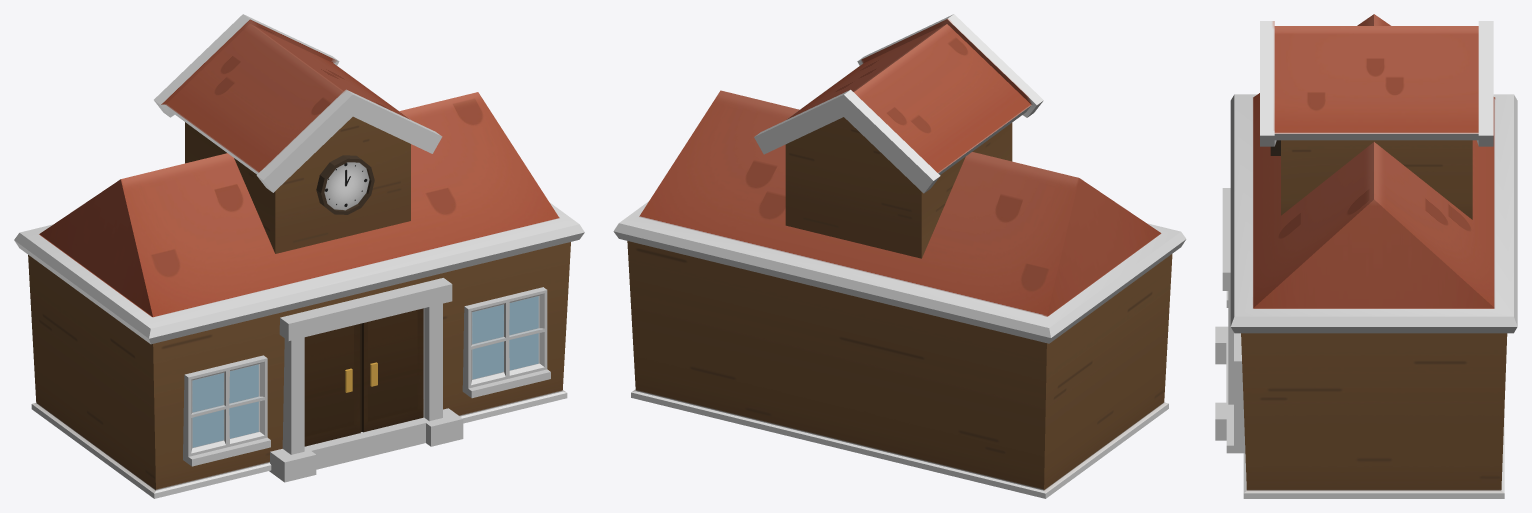
Rendered from townhall.fbx.
3 renders of one model, left to right at view 1: azimuth 30°, elevation 25°; view 2: azimuth 150°, elevation 25°; view 3: azimuth 270°, elevation 25°, orthographic. The views are drawn at different scales.
Visible parts, largest first — view 1: townhall; view 2: townhall; view 3: townhall.
Part boxes in pixels (x1,y1,x2,y2): townhall: (14, 14, 584, 498); townhall: (613, 14, 1186, 498); townhall: (1215, 14, 1517, 498).
Size of the model in its own units: 8.65 by 6.66 by 4.89.
Materials: 1 (1 with a texture image).
